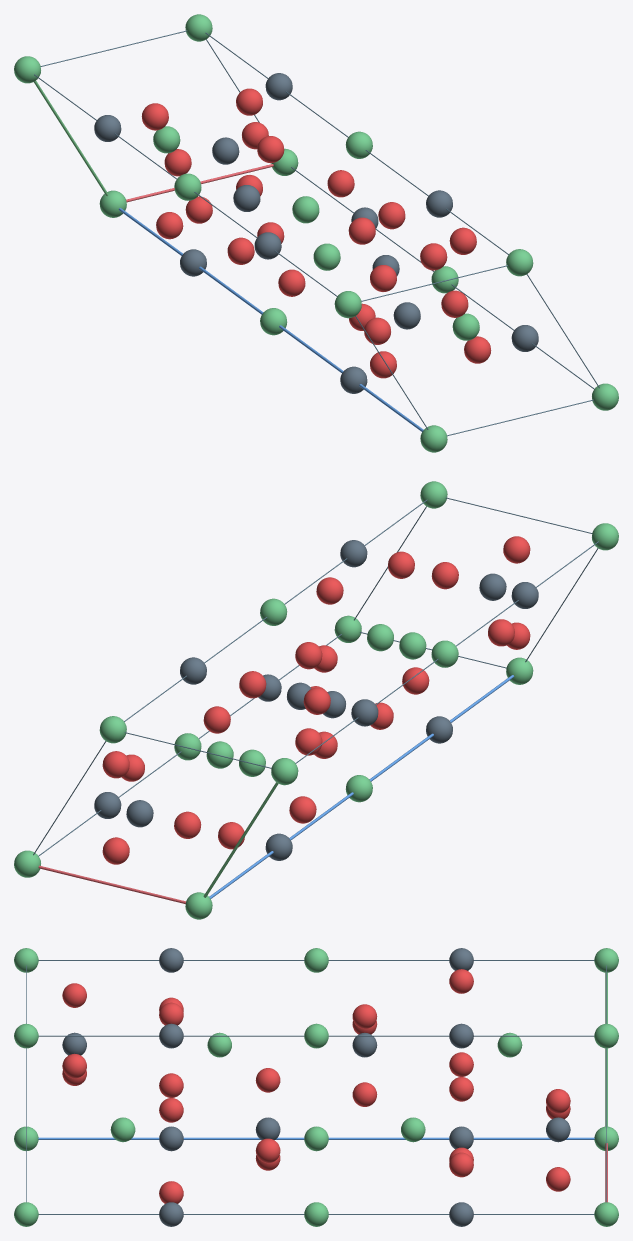
File: magnesite.glb
The picture shows the model from 3 angles, top to bottom: view 1: azimuth 30°, elevation 25°; view 2: azimuth 150°, elevation 25°; view 3: azimuth 270°, elevation 25°; orthographic projection. The views are drawn at different scales.
Parts seen in each view (by area): view 1: O · O · 1 (×16), Mg · Mg · 1 (×12), C · C · 1 (×8), Ô mạng và các trục a, b, c; view 2: O · O · 1 (×15), Mg · Mg · 1 (×14), Ô mạng và các trục a, b, c, C · C · 1 (×7); view 3: Mg · Mg · 1 (×16), O · O · 1 (×16), C · C · 1 (×12), Ô mạng và các trục a, b, c.
Boxes of the visible parts, x1=… form: O · O · 1 (×16): x1=141, y1=88, x2=491, y2=363; Mg · Mg · 1 (×12): x1=14, y1=14, x2=618, y2=452; C · C · 1 (×8): x1=94, y1=73, x2=538, y2=351; Ô mạng và các trục a, b, c: x1=34, y1=30, x2=599, y2=436; O · O · 1 (×15): x1=102, y1=536, x2=530, y2=864; Mg · Mg · 1 (×14): x1=14, y1=481, x2=618, y2=919; Ô mạng và các trục a, b, c: x1=33, y1=497, x2=598, y2=903; C · C · 1 (×7): x1=94, y1=540, x2=538, y2=827; Mg · Mg · 1 (×16): x1=14, y1=948, x2=618, y2=1226; O · O · 1 (×16): x1=62, y1=969, x2=570, y2=1203; C · C · 1 (×12): x1=62, y1=948, x2=570, y2=1226; Ô mạng và các trục a, b, c: x1=26, y1=960, x2=607, y2=1214.
Bounding box in the file's own units: 7.59 × 4.65 × 15.66.
